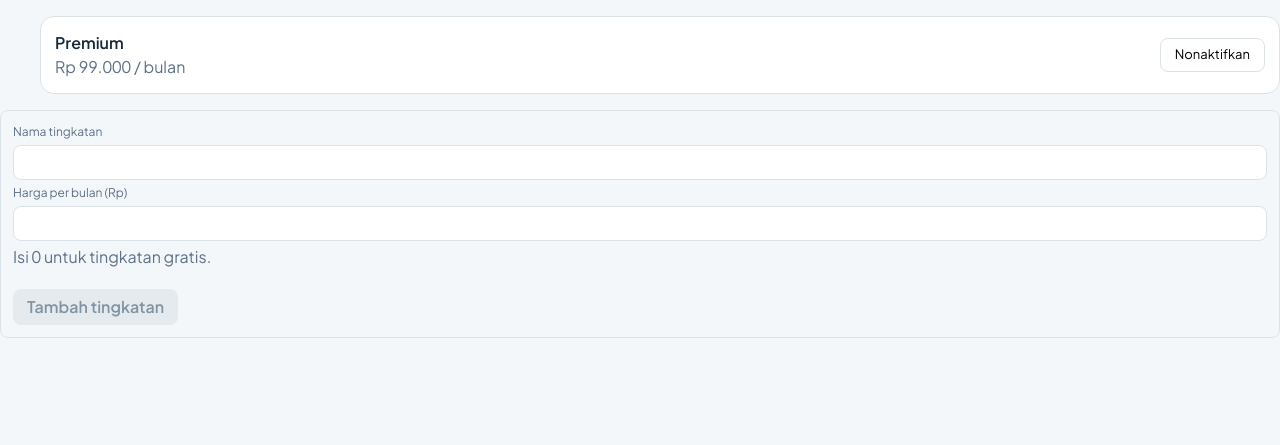
Test: CommunityTiers › the owner adds a tier, and it joins the offer without a refetch
The width and height of the screenshot is (1280, 445).
Expected: the text "Premium" is shown, x1=55 y1=32 x2=124 y2=53
Type "Baru" into the field labelled "Nama tingkatan" at (640, 162), box x1=13 y1=145 x2=1267 y2=180
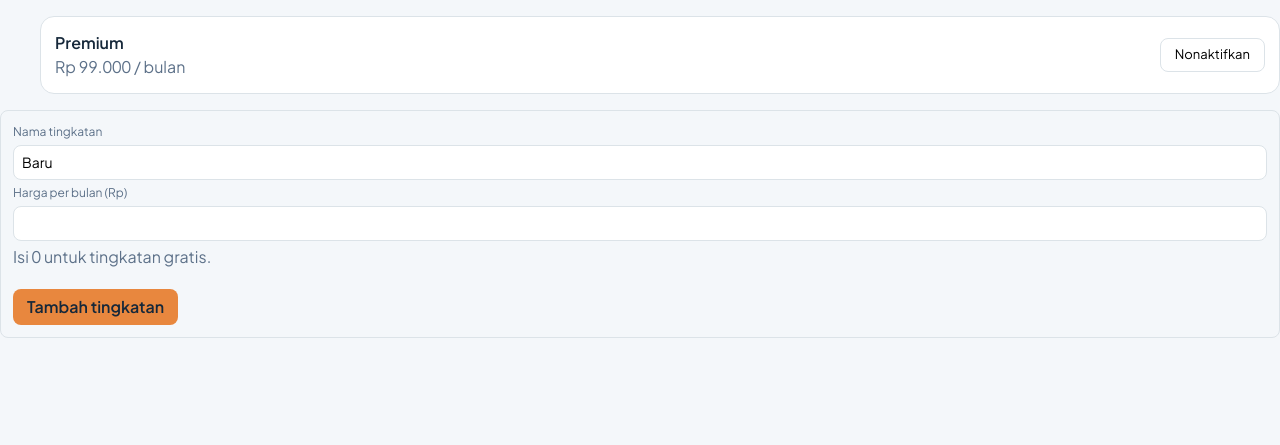
Type "50000" into the number field labelled "Harga per bulan (Rp)" at (640, 224), box x1=13 y1=206 x2=1267 y2=241
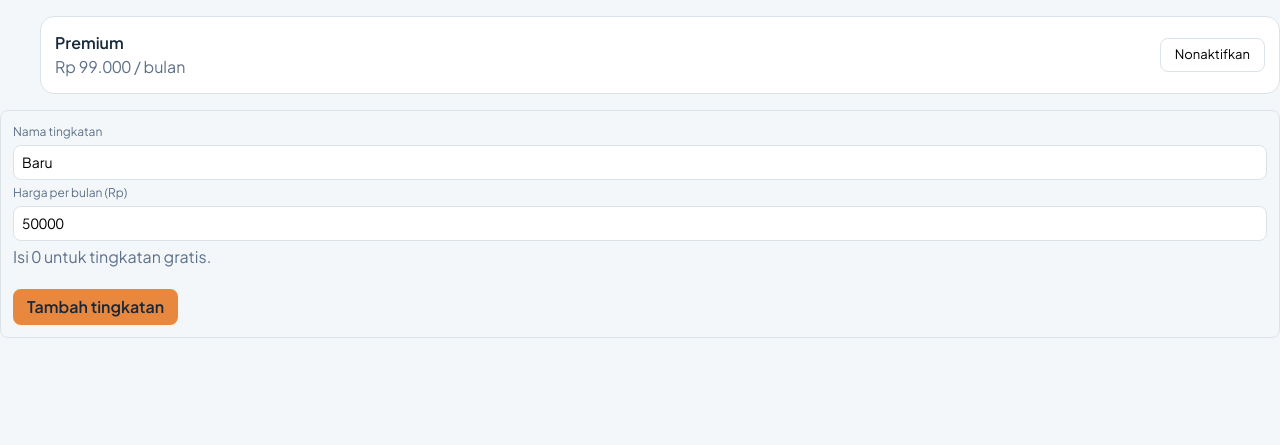
Click the button "Tambah tingkatan" at (96, 307), box x1=13 y1=289 x2=178 y2=325
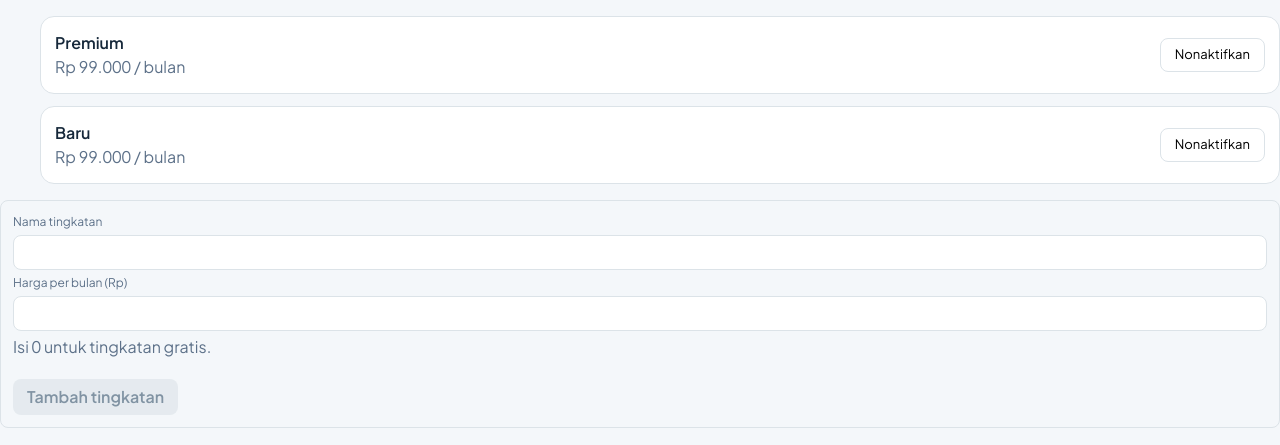
Now the text "Baru" is shown, box x1=55 y1=122 x2=90 y2=143
